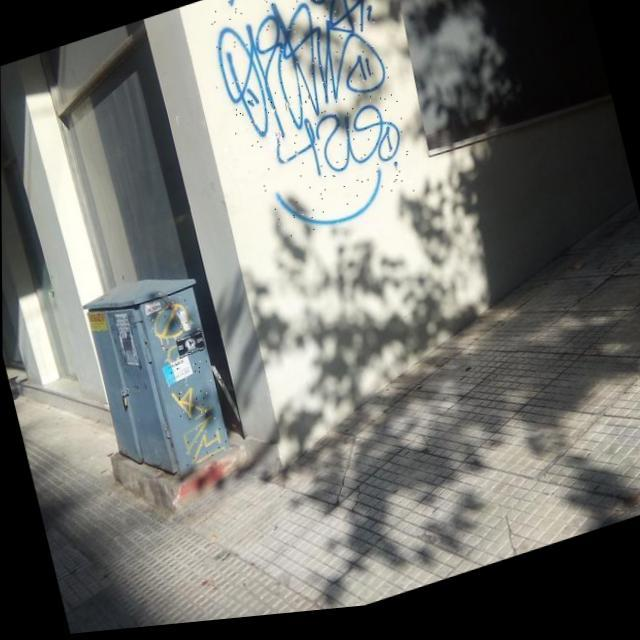-: (202, 0, 421, 257), (148, 296, 228, 474)
